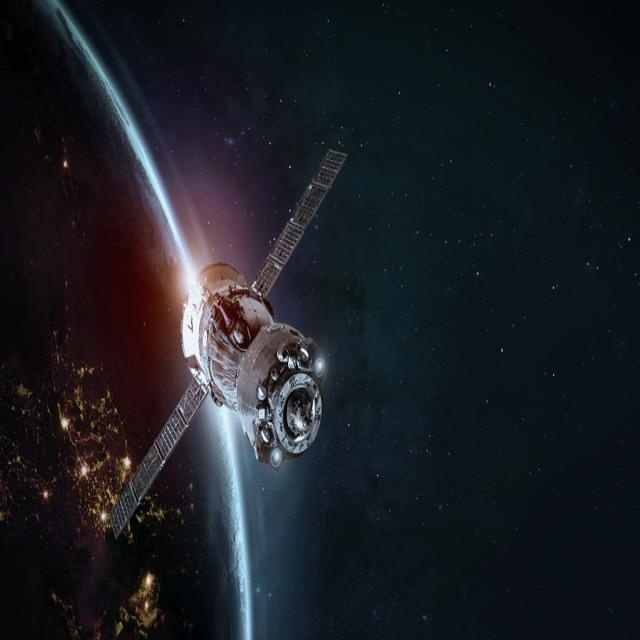medium_debris: (98, 116, 359, 553)
